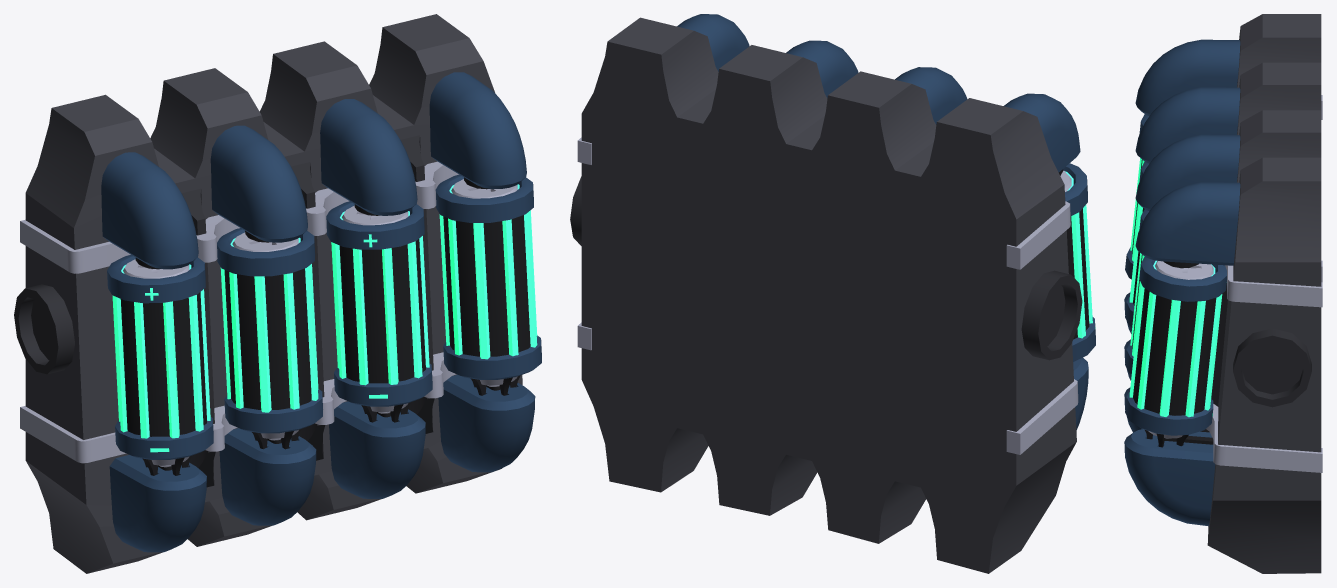
File: Misc_BatteryCharger_X4_B.fbx
3 views of the same model, side by side, from view 1: azimuth 30°, elevation 25°; view 2: azimuth 150°, elevation 25°; view 3: azimuth 270°, elevation 25° (orthographic). The views are drawn at different scales.
Parts seen in each view (by area): view 1: Misc_BatteryCharger_X4_B.001; view 2: Misc_BatteryCharger_X4_B.001; view 3: Misc_BatteryCharger_X4_B.001.
Boxes of the visible parts, x1,y1,x2,y2 form: Misc_BatteryCharger_X4_B.001: (14, 14, 541, 573); Misc_BatteryCharger_X4_B.001: (570, 14, 1095, 573); Misc_BatteryCharger_X4_B.001: (1124, 14, 1322, 573).
Bounding box in the file's own units: 0.344 × 0.3091 × 0.141.
